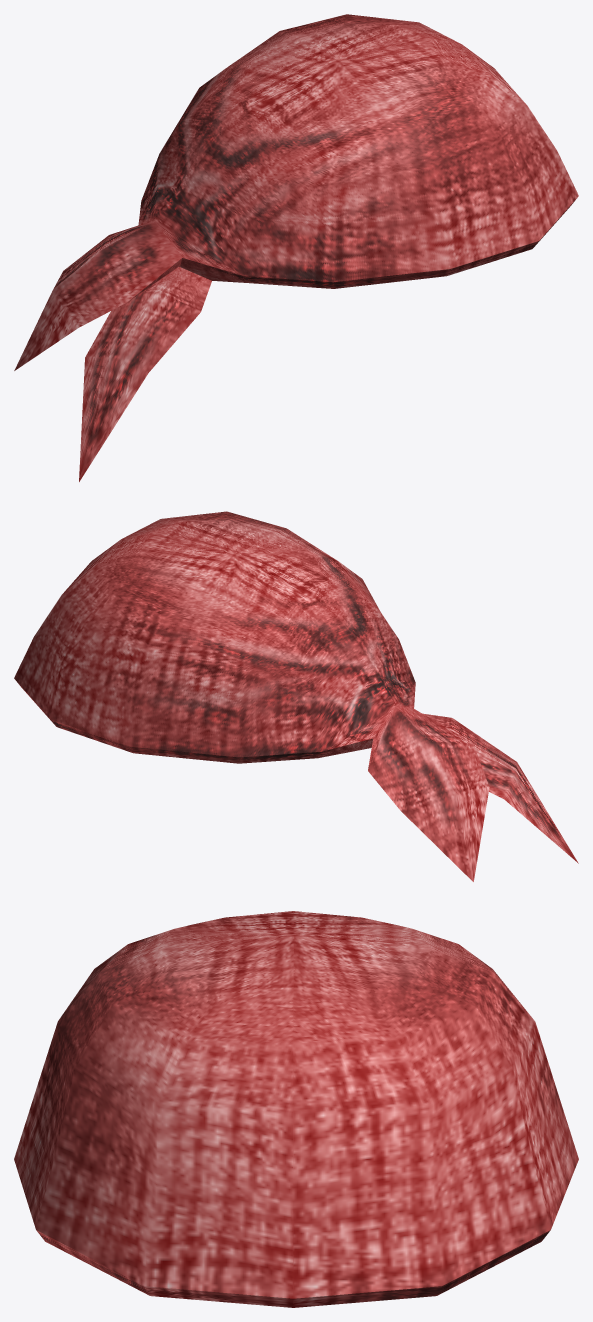
Rendered from BandanaHat.FBX.
3 renders of one model, top to bottom at view 1: azimuth 30°, elevation 25°; view 2: azimuth 150°, elevation 25°; view 3: azimuth 270°, elevation 25°, orthographic. The views are drawn at different scales.
Visible parts, largest first — view 1: Tube001; view 2: Tube001; view 3: Tube001.
Part boxes in pixels (left/top/right/bottom): Tube001: left=14, top=14, right=578, bottom=481; Tube001: left=14, top=511, right=578, bottom=881; Tube001: left=14, top=911, right=578, bottom=1307.
Size of the model in its own units: 209 by 115 by 131.
